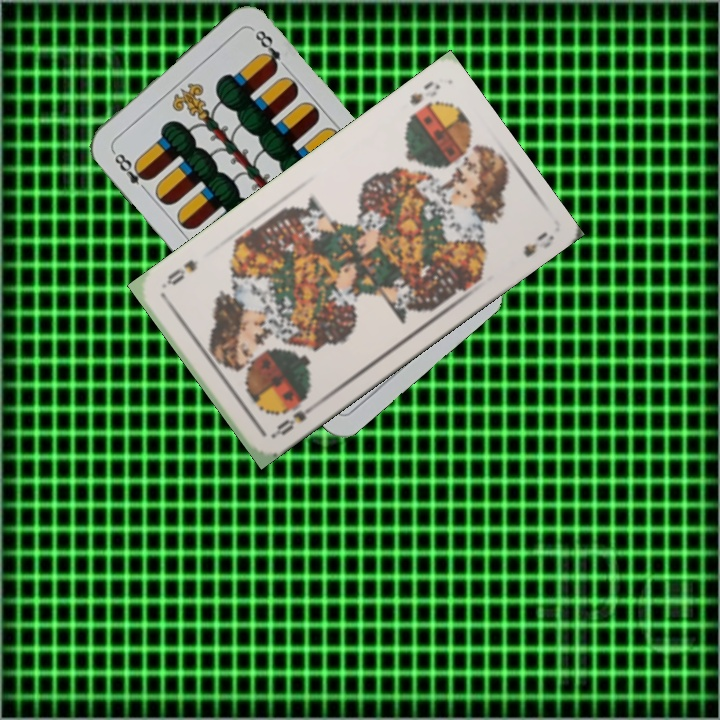E8: (108, 146, 154, 196)
SO: (267, 400, 319, 441), (405, 76, 443, 108)
